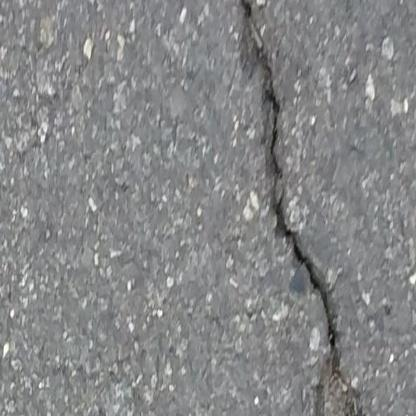Cracks: (229, 0, 373, 416)
